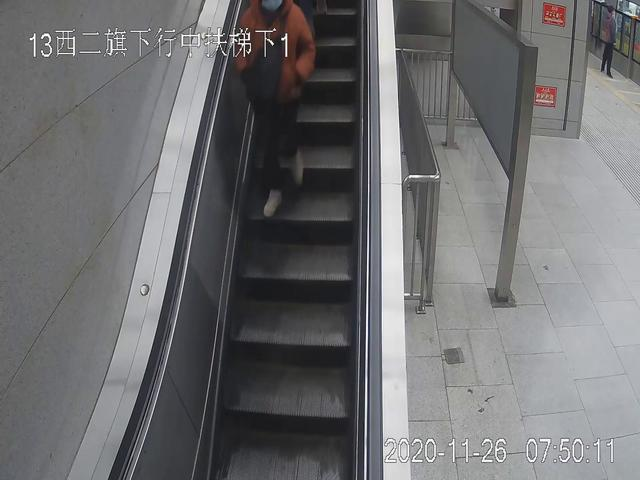person: (233, 1, 315, 218), (600, 5, 621, 79)
